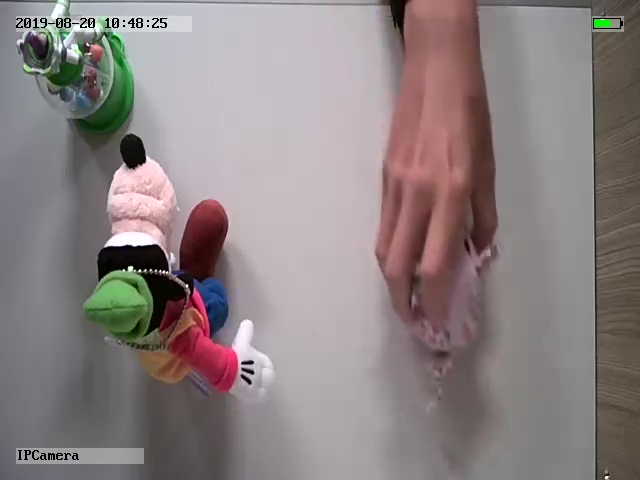buzz: (15, 1, 138, 131)
goofy: (80, 131, 275, 406)
